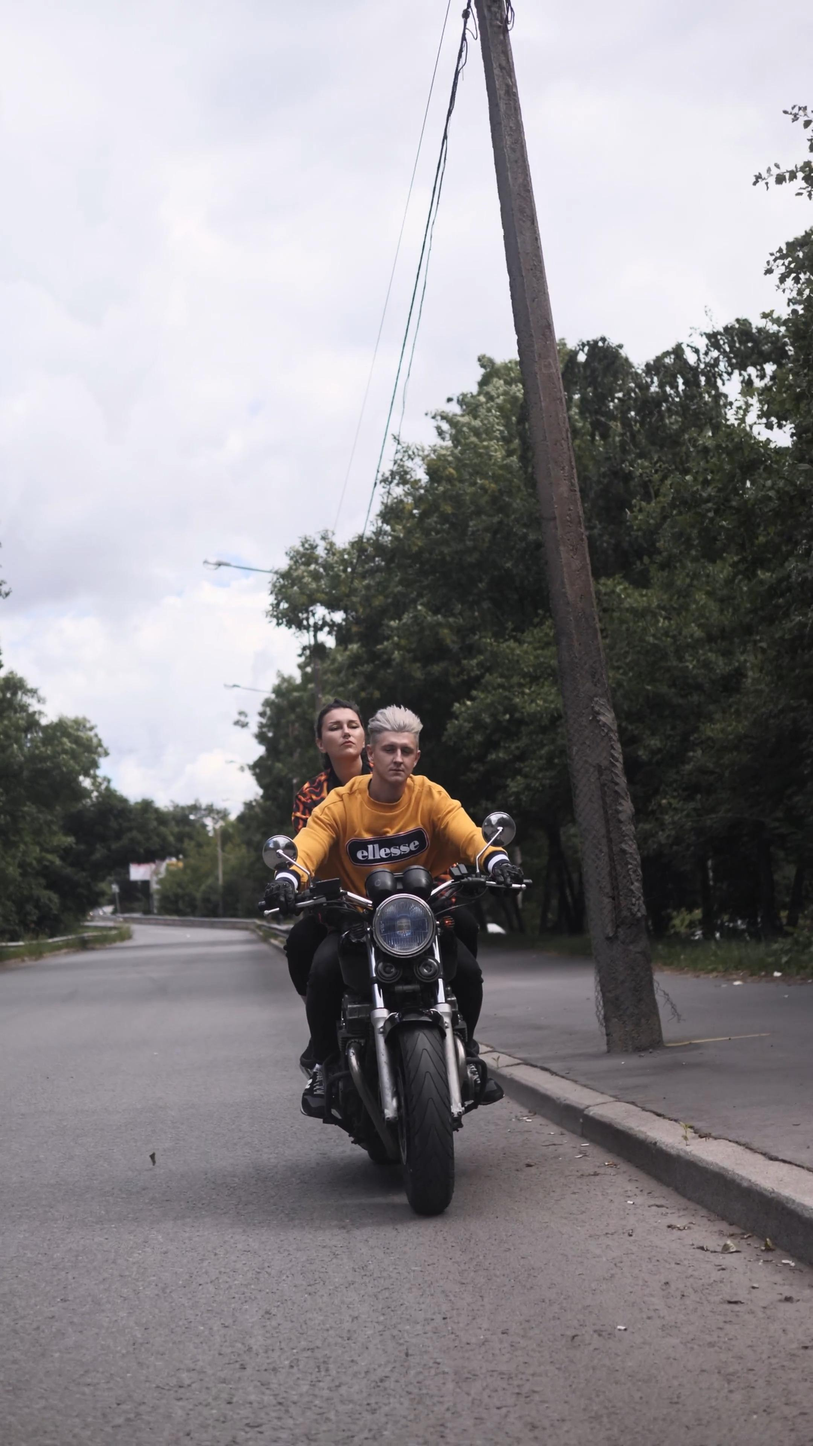driver: (257, 697, 536, 1217)
no-helmet: (366, 703, 424, 786), (315, 697, 366, 760)
